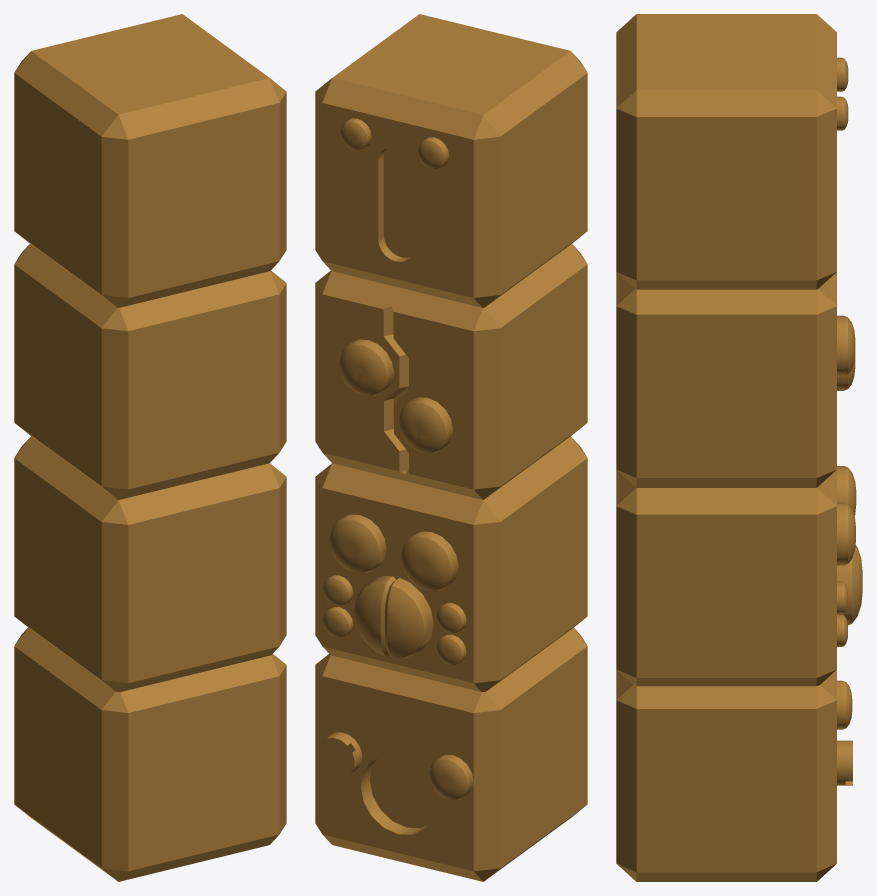
Rendered from obj_treasure_06.fbx.
3 views of the same model, side by side, from view 1: azimuth 30°, elevation 25°; view 2: azimuth 150°, elevation 25°; view 3: azimuth 270°, elevation 25° (orthographic). The views are drawn at different scales.
Parts seen in each view (by area): view 1: Cube.034; view 2: Cube.034; view 3: Cube.034.
Part boxes in pixels (bbox=[...]): Cube.034: bbox=[14, 14, 286, 881]; Cube.034: bbox=[315, 14, 587, 881]; Cube.034: bbox=[616, 14, 862, 881].
Bounding box in the file's own units: 3.53 × 13.99 × 3.94.
